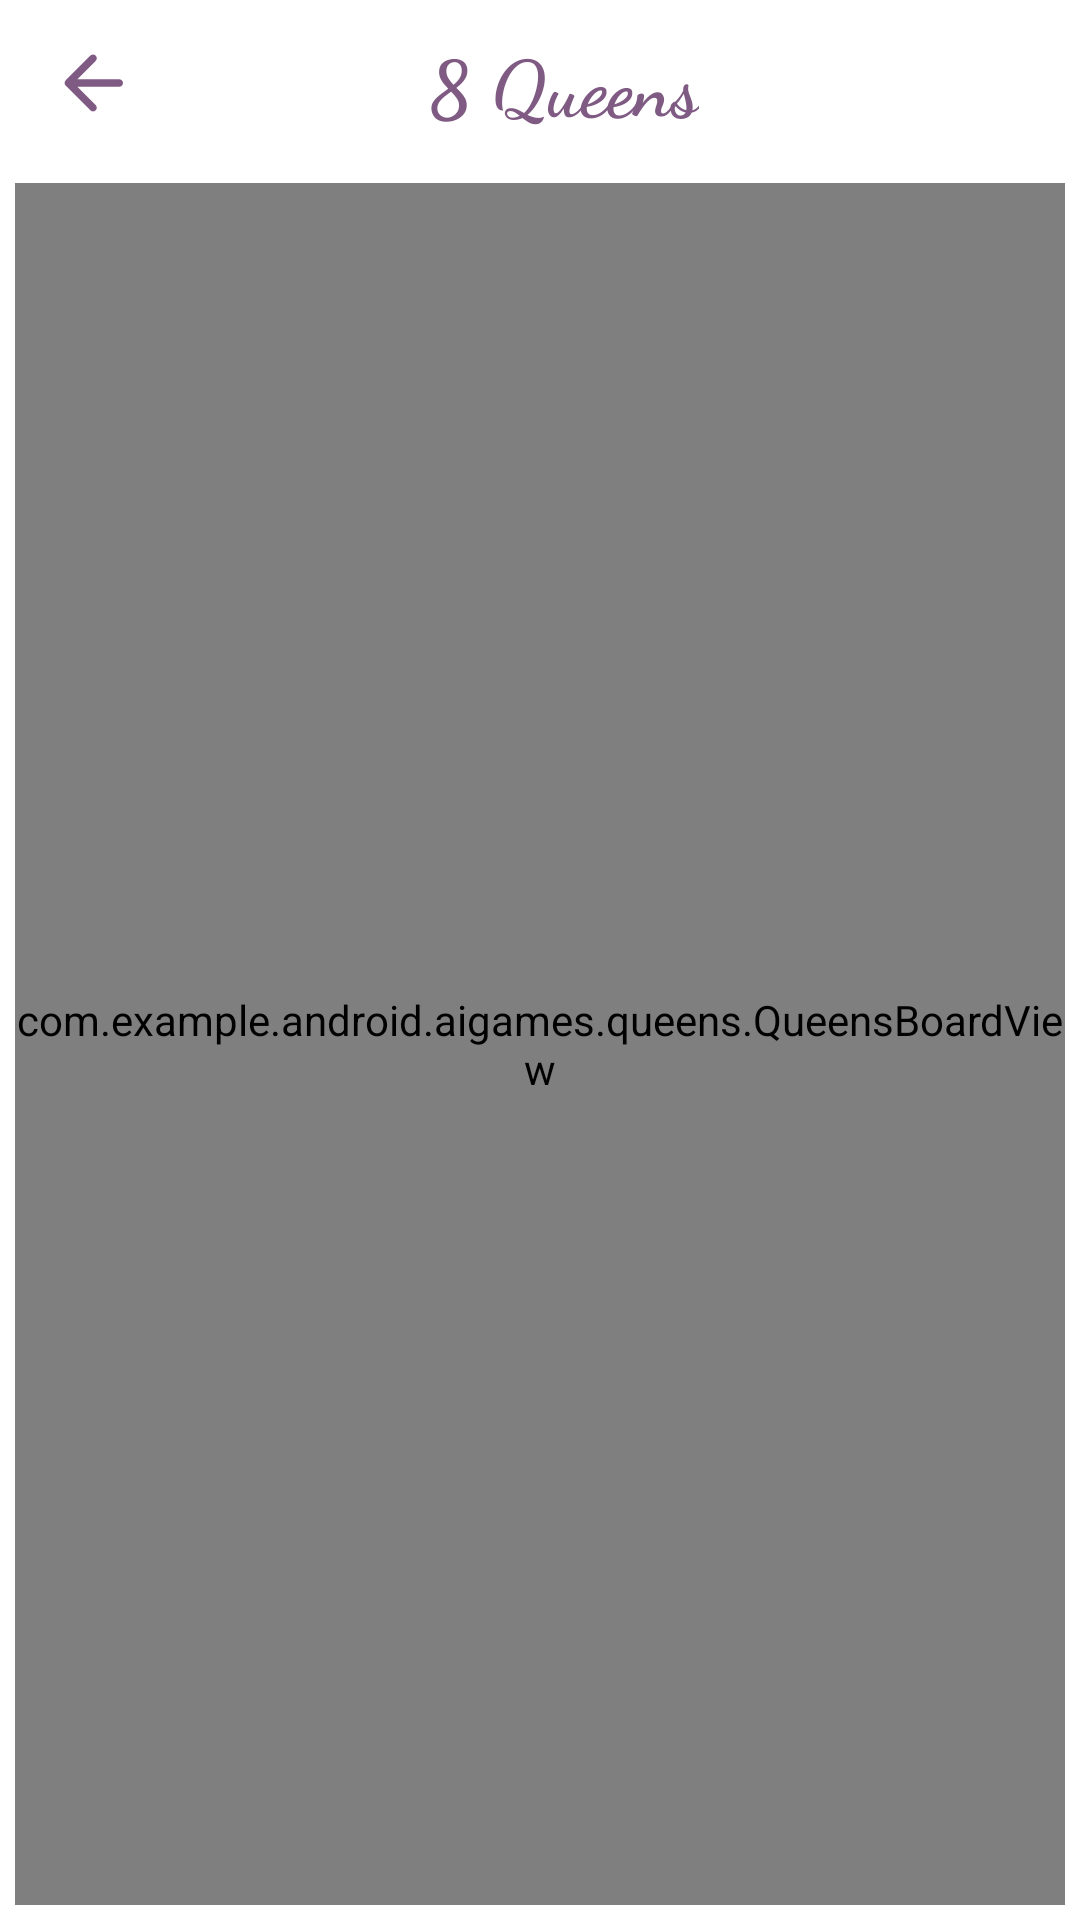

Named icons in this screenshot (1080 × 1920) and their centers, [x,y]:
arrow back: [93,83]
